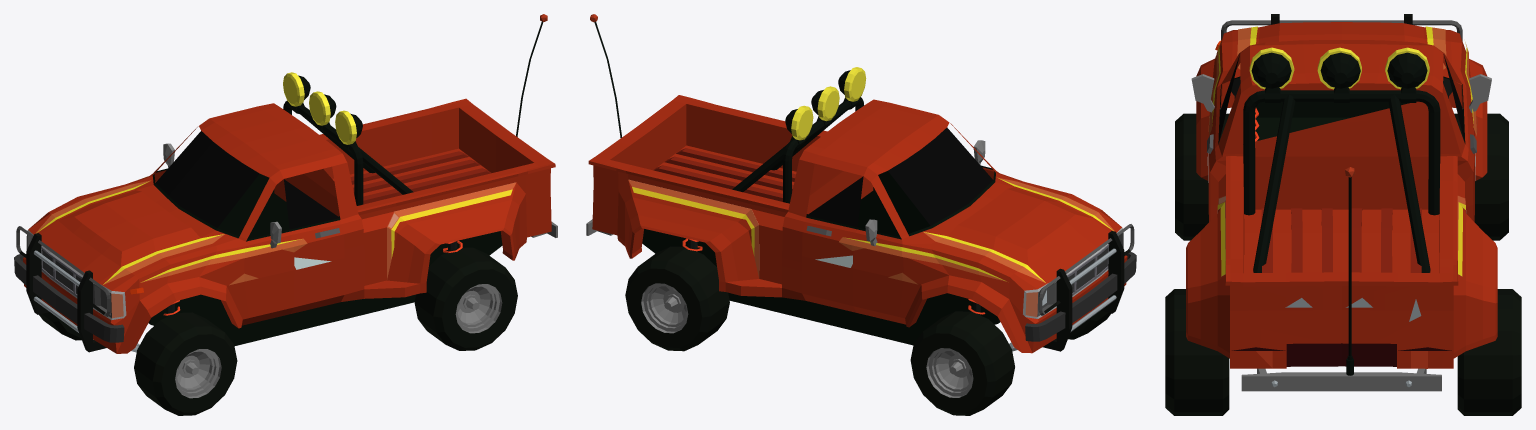
Rendered from toyoyo-highlight.lod.glb.
The picture shows the model from 3 angles, left to right: view 1: azimuth 30°, elevation 25°; view 2: azimuth 150°, elevation 25°; view 3: azimuth 270°, elevation 25°; orthographic projection. The views are drawn at different scales.
Parts seen in each view (by area): view 1: hilux body; view 2: hilux body; view 3: hilux body.
Boxes of the visible parts, x1,y1,x2,y2 form: hilux body: (14, 14, 557, 415); hilux body: (586, 14, 1136, 415); hilux body: (1165, 14, 1521, 415).
Size of the model in its own units: 4.59 by 2.24 by 2.2.
3 materials, 2 textured.
